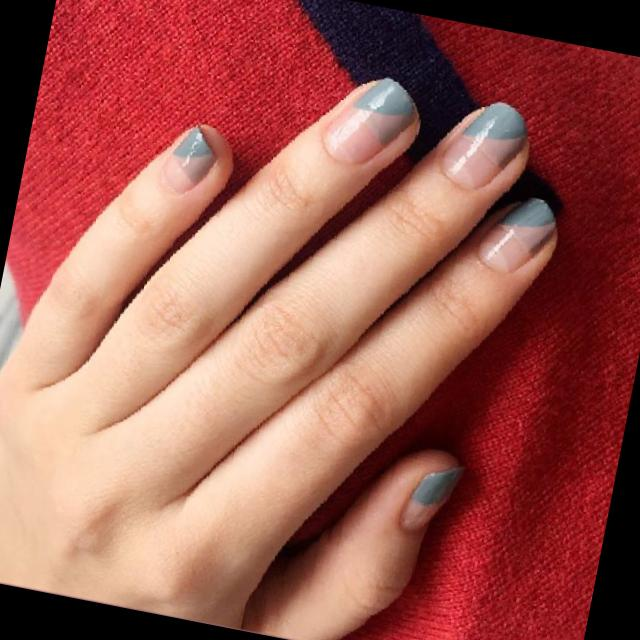Nail: (327, 79, 416, 163), (443, 104, 527, 186), (479, 199, 555, 272), (163, 125, 216, 192), (404, 469, 462, 523)
